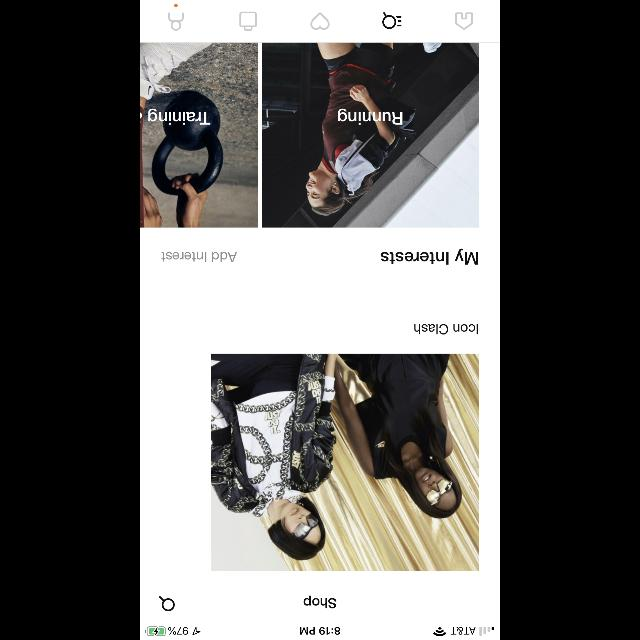icon: (382, 12, 402, 30), (310, 12, 330, 30), (456, 12, 472, 30), (240, 12, 256, 30), (168, 12, 184, 30), (159, 596, 175, 610)
image: (212, 354, 478, 570), (262, 42, 478, 228), (140, 43, 258, 227)
text: (380, 249, 478, 265), (338, 108, 402, 124), (148, 109, 210, 125), (162, 252, 236, 262), (414, 324, 478, 334), (304, 596, 336, 608)
uppertaskbar: (140, 626, 500, 640)
